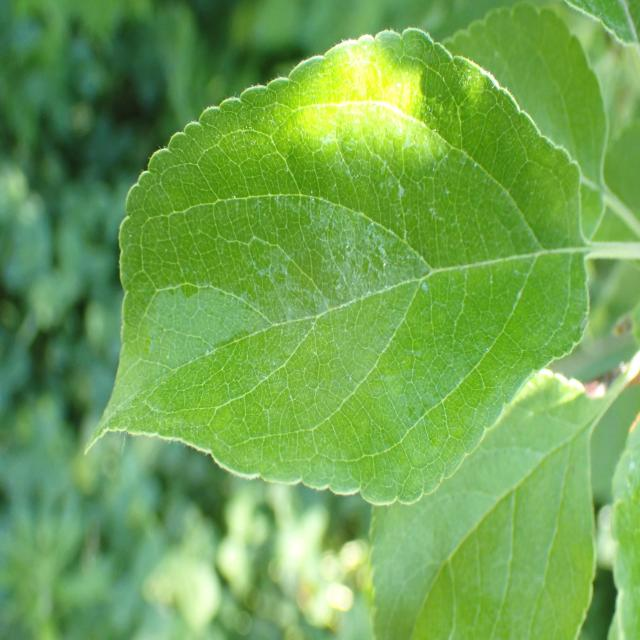healthy: (80, 26, 590, 506), (368, 367, 599, 640), (439, 3, 609, 244)
